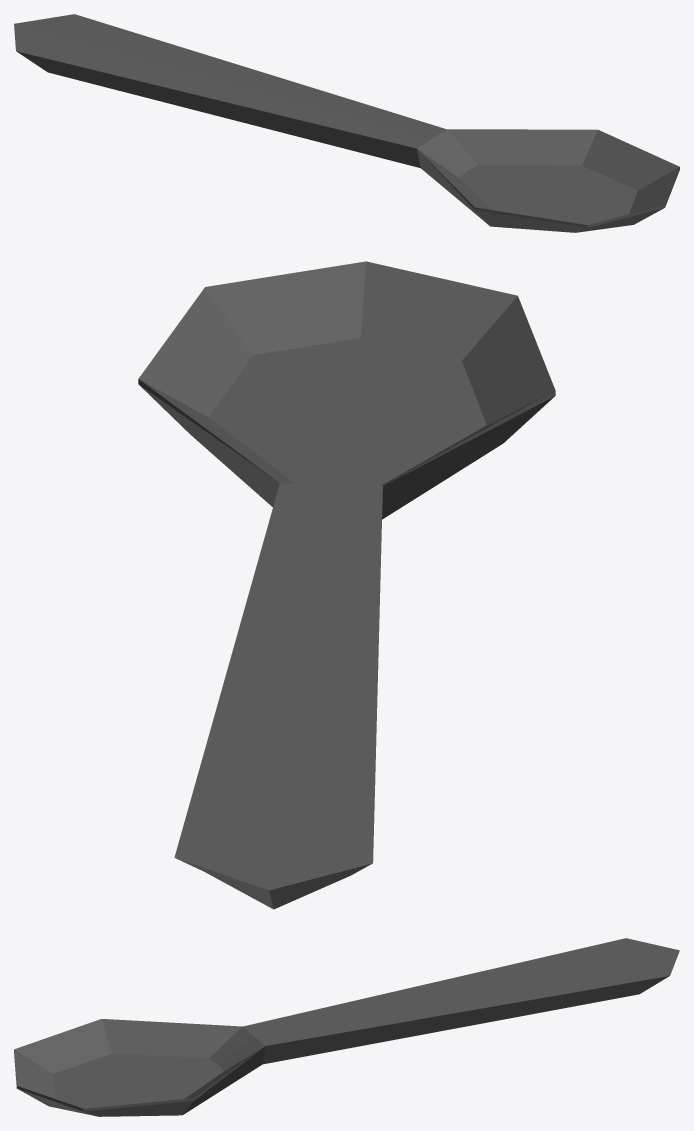
File: Kitchen_Spoon.fbx
The picture shows the model from 3 angles, top to bottom: view 1: azimuth 30°, elevation 25°; view 2: azimuth 150°, elevation 25°; view 3: azimuth 270°, elevation 25°; orthographic projection. The views are drawn at different scales.
Parts seen in each view (by area): view 1: Kitchen_Spoon; view 2: Kitchen_Spoon; view 3: Kitchen_Spoon.
Part boxes in pixels (bbox=[...]): Kitchen_Spoon: bbox=[14, 14, 679, 232]; Kitchen_Spoon: bbox=[138, 261, 555, 909]; Kitchen_Spoon: bbox=[14, 938, 679, 1116].
Size of the model in its own units: 25.16 by 2.4 by 40.83.
